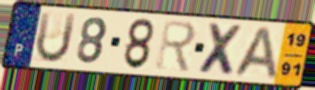8: (122, 17, 156, 71), (76, 15, 109, 66)
A: (230, 25, 280, 82)
R: (154, 18, 198, 75)
U: (33, 10, 79, 66)
X: (196, 21, 246, 79)
